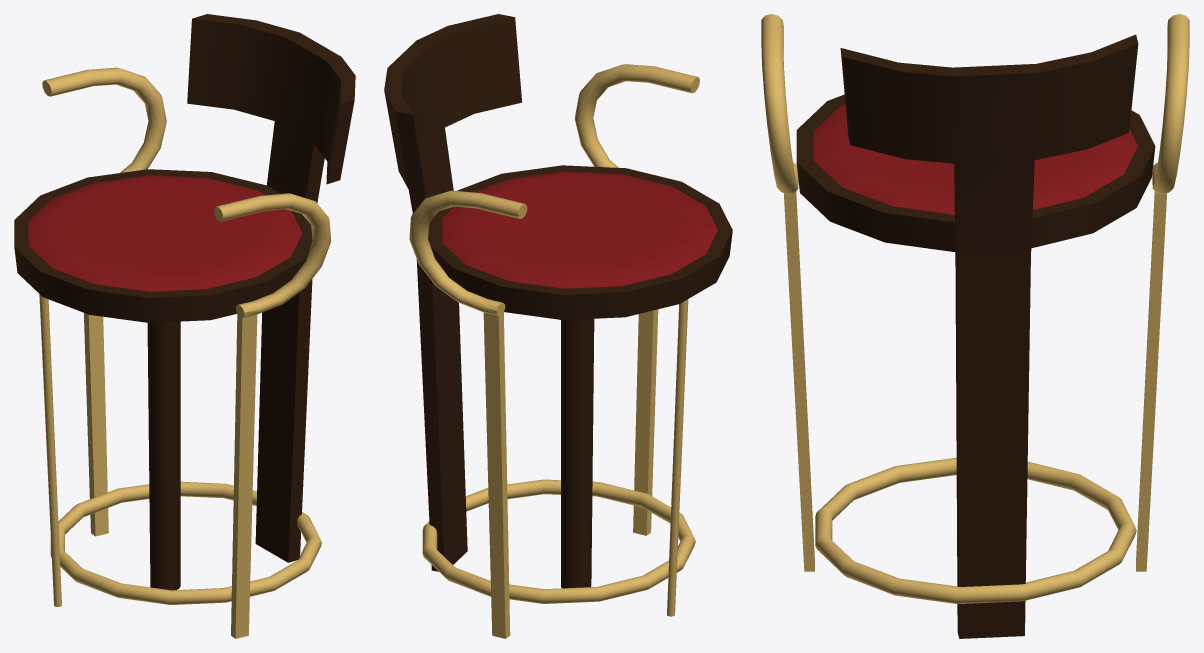
File: LoungeBarstoolUV.fbx
The picture shows the model from 3 angles, left to right: view 1: azimuth 30°, elevation 25°; view 2: azimuth 150°, elevation 25°; view 3: azimuth 270°, elevation 25°; orthographic projection. The views are drawn at different scales.
Parts seen in each view (by area): view 1: polySurface34; view 2: polySurface34; view 3: polySurface34.
Part boxes in pixels (x1,y1,x2,y2): polySurface34: (14,14,355,638); polySurface34: (384,14,732,638); polySurface34: (761,14,1189,638).
Bounding box in the file's own units: 86.64 × 136 × 90.06.
